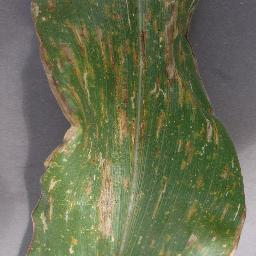Gray_Leaf_Spot: (13, 119, 249, 256), (17, 0, 234, 121)
